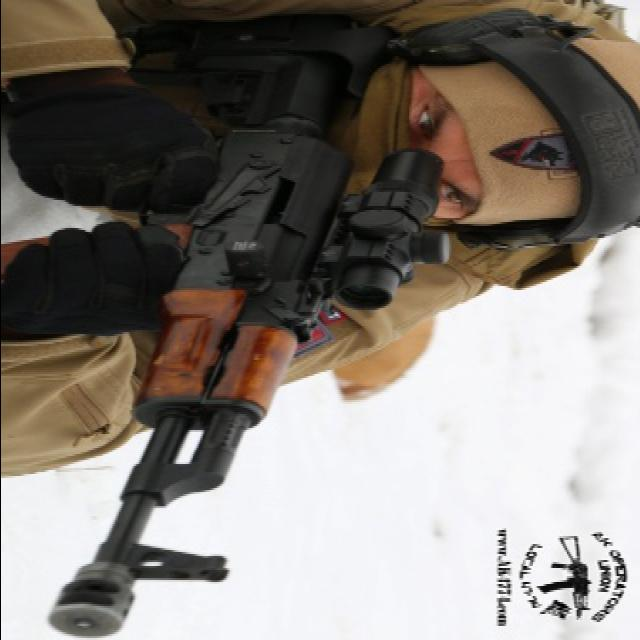rifle: (25, 21, 459, 639)
